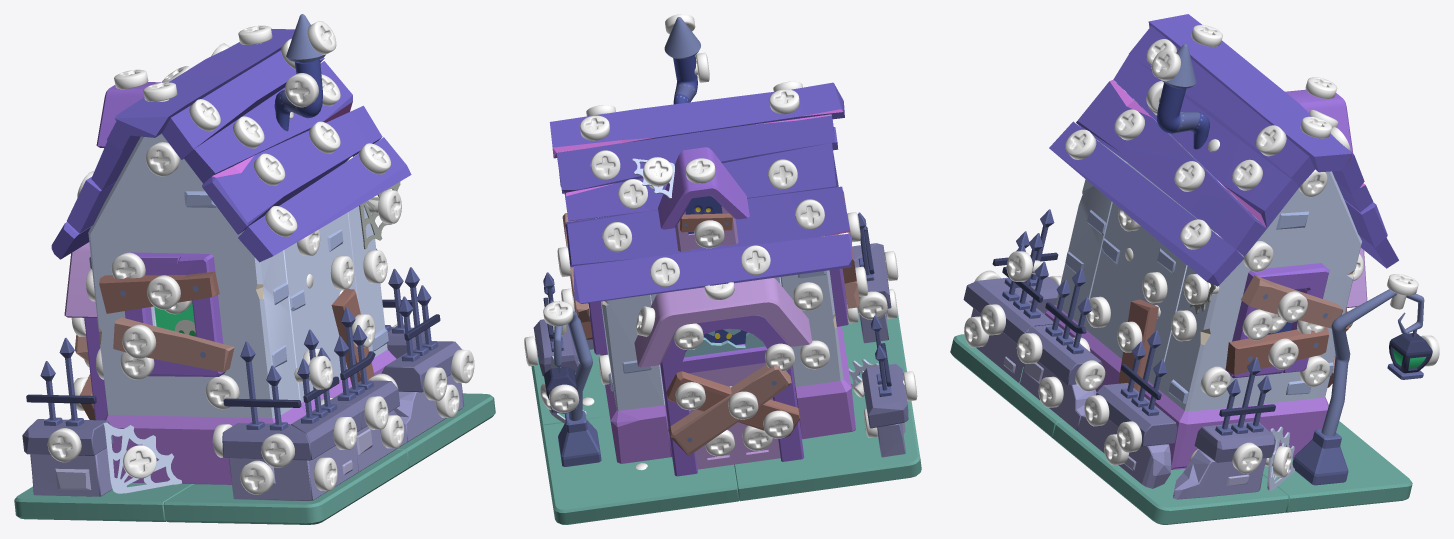
Rendered from HauntedHouses_GroupD.fbx.
3 views of the same model, side by side, from view 1: azimuth 30°, elevation 25°; view 2: azimuth 150°, elevation 25°; view 3: azimuth 270°, elevation 25° (orthographic). The views are drawn at different scales.
Visible parts, largest first — view 1: HauntedHouses_039, Screw (×32), HauntedHouses_005, HauntedHouses_035.003, HauntedHouses_017, HauntedHouses_006, HauntedHouses_002, HauntedHouses_004, HauntedHouses_003, HauntedHouses_035.001, HauntedHouses_043, HauntedHouses_022 (+24 smaller); view 2: Screw (×25), HauntedHouses_035, HauntedHouses_036, HauntedHouses_012, HauntedHouses_011, HauntedHouses_035.001, HauntedHouses_002, HauntedHouses_007, HauntedHouses_034, HauntedHouses_037, HauntedHouses_039, HauntedHouses_010 (+16 smaller); view 3: HauntedHouses_034, Screw (×28), HauntedHouses_005, HauntedHouses_017, HauntedHouses_006, HauntedHouses_002, HauntedHouses_035.002, HauntedHouses_004, HauntedHouses_035, HauntedHouses_029, HauntedHouses_003, HauntedHouses_028 (+22 smaller).
Part boxes in pixels (x1=…): HauntedHouses_039: x1=88, y1=133, x2=306, y2=484; Screw (×32): x1=47, y1=21, x2=474, y2=494; HauntedHouses_005: x1=202, y1=105, x2=382, y2=234; HauntedHouses_035.003: x1=163, y1=449, x2=408, y2=524; HauntedHouses_017: x1=283, y1=212, x2=356, y2=412; HauntedHouses_006: x1=238, y1=137, x2=411, y2=262; HauntedHouses_002: x1=114, y1=28, x2=294, y2=137; HauntedHouses_004: x1=184, y1=61, x2=352, y2=183; HauntedHouses_003: x1=162, y1=50, x2=324, y2=159; HauntedHouses_035.001: x1=14, y1=483, x2=193, y2=521; HauntedHouses_043: x1=125, y1=252, x2=225, y2=376; HauntedHouses_022: x1=222, y1=341, x2=311, y2=460; Screw (×25): x1=543, y1=89, x2=887, y2=456; HauntedHouses_035: x1=541, y1=416, x2=739, y2=524; HauntedHouses_036: x1=660, y1=315, x2=804, y2=476; HauntedHouses_012: x1=573, y1=234, x2=852, y2=303; HauntedHouses_011: x1=565, y1=186, x2=850, y2=267; HauntedHouses_035.001: x1=734, y1=382, x2=921, y2=501; HauntedHouses_002: x1=549, y1=82, x2=844, y2=158; HauntedHouses_007: x1=557, y1=114, x2=834, y2=193; HauntedHouses_034: x1=590, y1=217, x2=671, y2=463; HauntedHouses_037: x1=634, y1=278, x2=812, y2=367; HauntedHouses_039: x1=780, y1=236, x2=855, y2=439; HauntedHouses_010: x1=564, y1=143, x2=838, y2=221; HauntedHouses_034: x1=1155, y1=171, x2=1362, y2=469; Screw (×28): x1=964, y1=49, x2=1418, y2=473; HauntedHouses_005: x1=1076, y1=80, x2=1266, y2=256; HauntedHouses_017: x1=1081, y1=202, x2=1187, y2=400; HauntedHouses_006: x1=1049, y1=121, x2=1244, y2=286; HauntedHouses_002: x1=1148, y1=14, x2=1352, y2=172; HauntedHouses_035.002: x1=1052, y1=421, x2=1288, y2=524; HauntedHouses_004: x1=1113, y1=54, x2=1299, y2=228; HauntedHouses_035: x1=1263, y1=421, x2=1412, y2=512; HauntedHouses_029: x1=1292, y1=289, x2=1424, y2=485; HauntedHouses_003: x1=1129, y1=26, x2=1314, y2=186; HauntedHouses_028: x1=1096, y1=330, x2=1177, y2=446.
Size of the model in its own units: 10.43 by 10.61 by 10.48.
2 materials, 1 textured.
